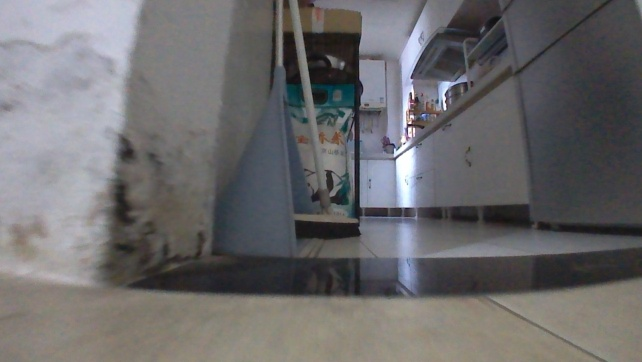cupboard: (347, 56, 531, 224)
refrigerator1: (493, 0, 641, 237)
